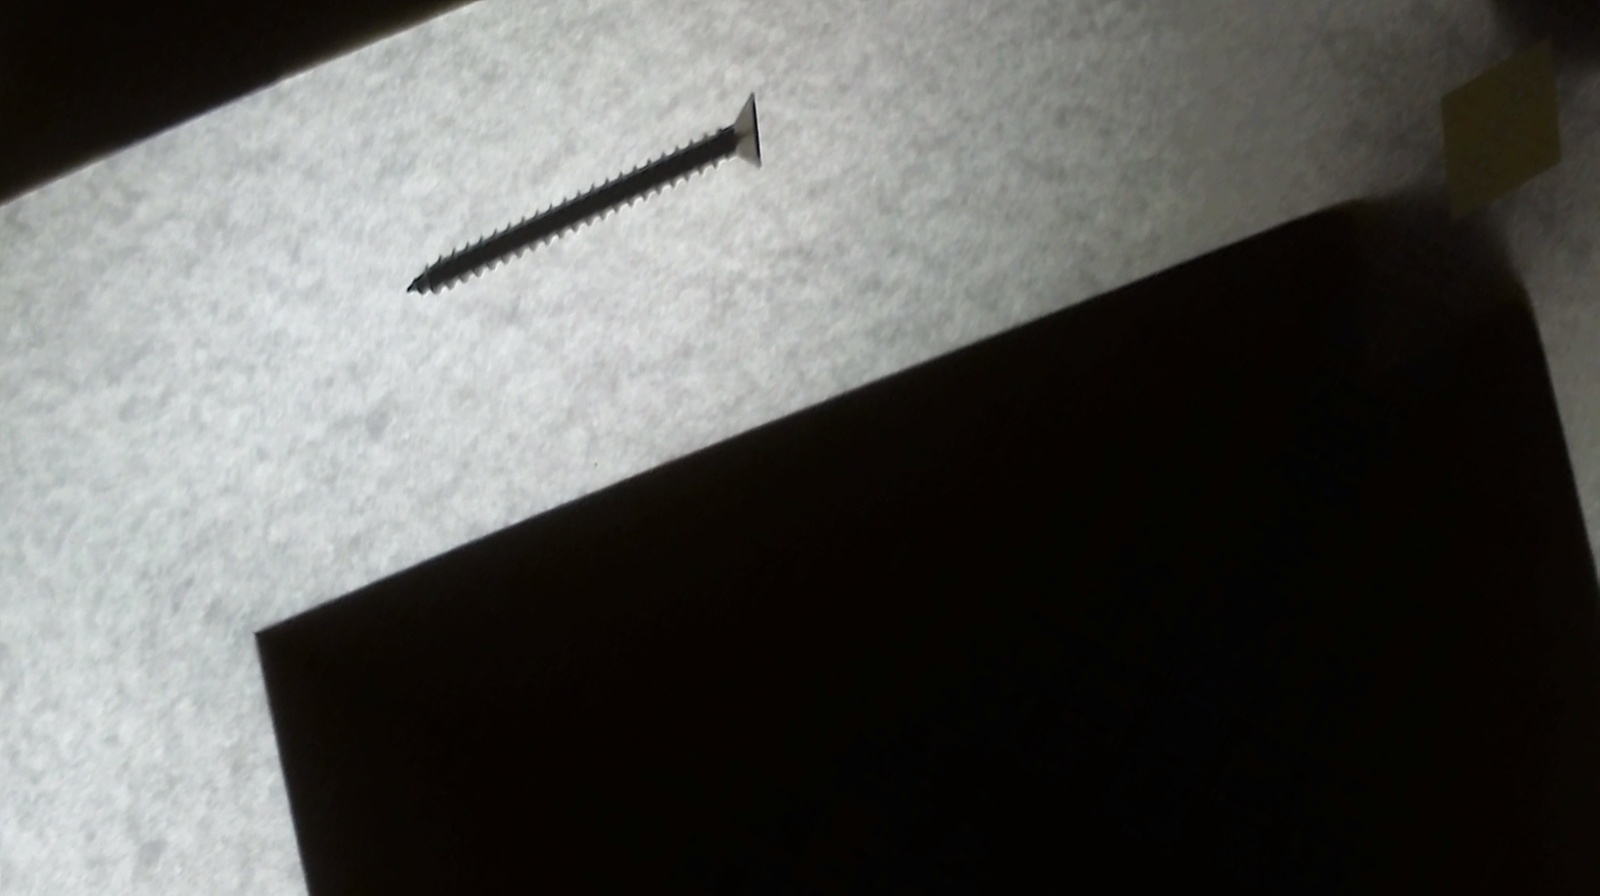S002: (395, 0, 798, 425)
